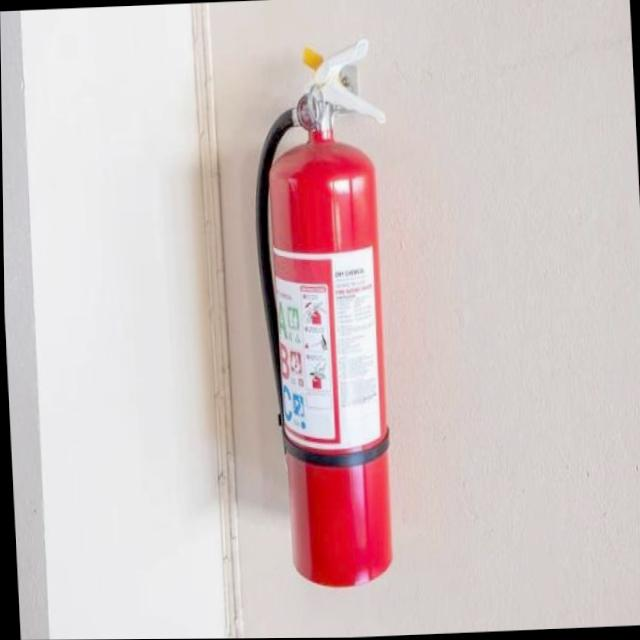FireExtinguisher: (242, 33, 408, 593)
